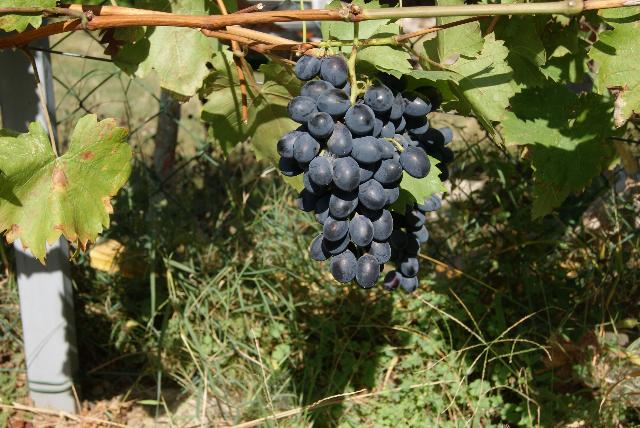grapes: (276, 55, 429, 289)
